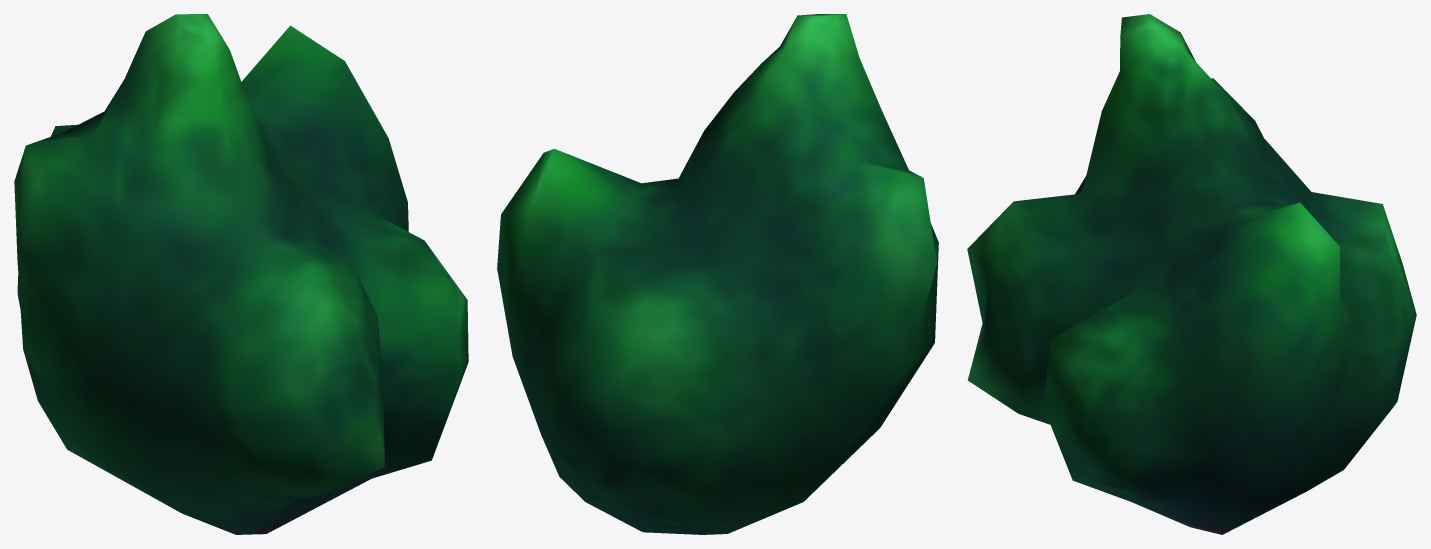
Rendered from Bush2_DEFAULT.dae.
3 views of the same model, side by side, from view 1: azimuth 30°, elevation 25°; view 2: azimuth 150°, elevation 25°; view 3: azimuth 270°, elevation 25° (orthographic). The views are drawn at different scales.
Parts seen in each view (by area): view 1: mesh0; view 2: mesh0; view 3: mesh0.
Part boxes in pixels (bbox=[...]): mesh0: bbox=[14, 14, 468, 534]; mesh0: bbox=[497, 14, 938, 534]; mesh0: bbox=[967, 14, 1416, 534].
Bounding box in the file's own units: 0.553 × 0.7067 × 0.6166.
